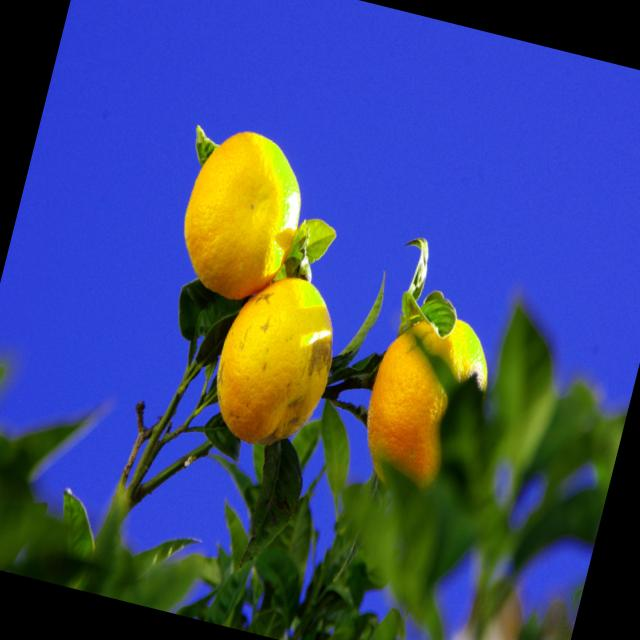laranja: (334, 297, 506, 499), (165, 121, 319, 309), (203, 266, 348, 455)
